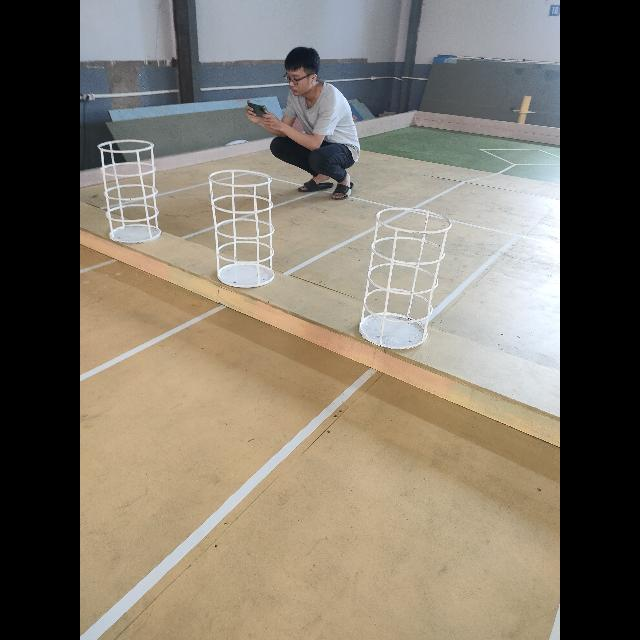S: (355, 206, 453, 351), (204, 167, 277, 292), (96, 137, 163, 245)
